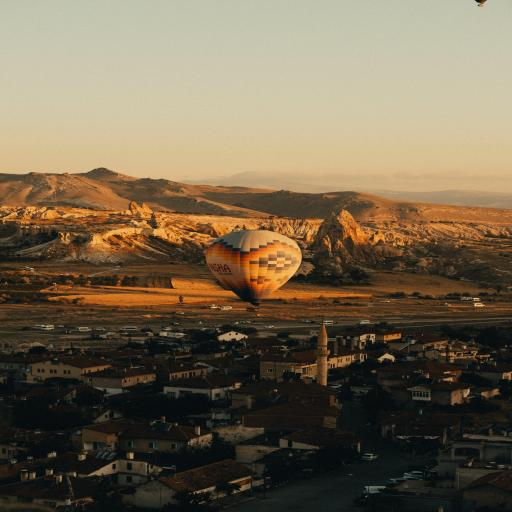hot air ballon: (205, 230, 302, 312)
